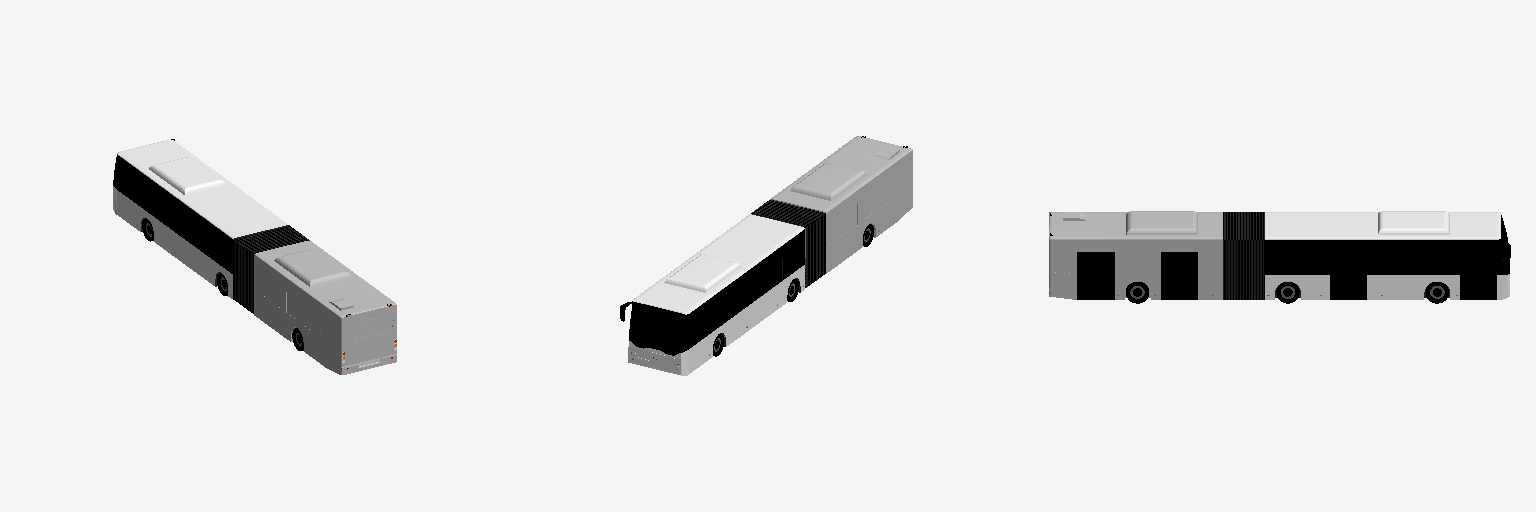
3 views of the same model, side by side, from view 1: azimuth 30°, elevation 25°; view 2: azimuth 150°, elevation 25°; view 3: azimuth 270°, elevation 25° (orthographic).
Parts seen in each view (by area): view 1: Chassis, Chassis.001, Gangway, Glass, Glass.001; view 2: Chassis, Chassis.001, Glass, Gangway, Glass.001; view 3: Chassis, Chassis.001, Gangway, Glass, Doors.Glass.001, Doors.Glass, Glass.001, Doors.001, Doors.
Boxes of the visible parts, x1=… form: Chassis: x1=113, y1=140, x2=289, y2=298; Chassis.001: x1=254, y1=241, x2=396, y2=374; Gangway: x1=233, y1=226, x2=309, y2=313; Glass: x1=114, y1=166, x2=232, y2=272; Glass.001: x1=255, y1=269, x2=392, y2=339; Chassis: x1=628, y1=214, x2=804, y2=375; Chassis.001: x1=770, y1=136, x2=912, y2=273; Glass: x1=631, y1=243, x2=804, y2=354; Gangway: x1=751, y1=200, x2=825, y2=287; Glass.001: x1=827, y1=176, x2=895, y2=246; Chassis: x1=1265, y1=211, x2=1509, y2=299; Chassis.001: x1=1049, y1=211, x2=1222, y2=299; Gangway: x1=1223, y1=212, x2=1264, y2=299; Glass: x1=1266, y1=226, x2=1509, y2=274; Doors.Glass.001: x1=1079, y1=253, x2=1195, y2=297; Doors.Glass: x1=1332, y1=253, x2=1494, y2=297; Glass.001: x1=1053, y1=253, x2=1220, y2=273; Doors.001: x1=1077, y1=252, x2=1197, y2=299; Doors: x1=1330, y1=252, x2=1496, y2=299.
Size of the model in its own units: 3.04 by 3.05 by 18.1.
Materials: 6 (4 with a texture image).